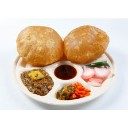poori: (18, 26, 63, 65), (66, 25, 110, 62)
